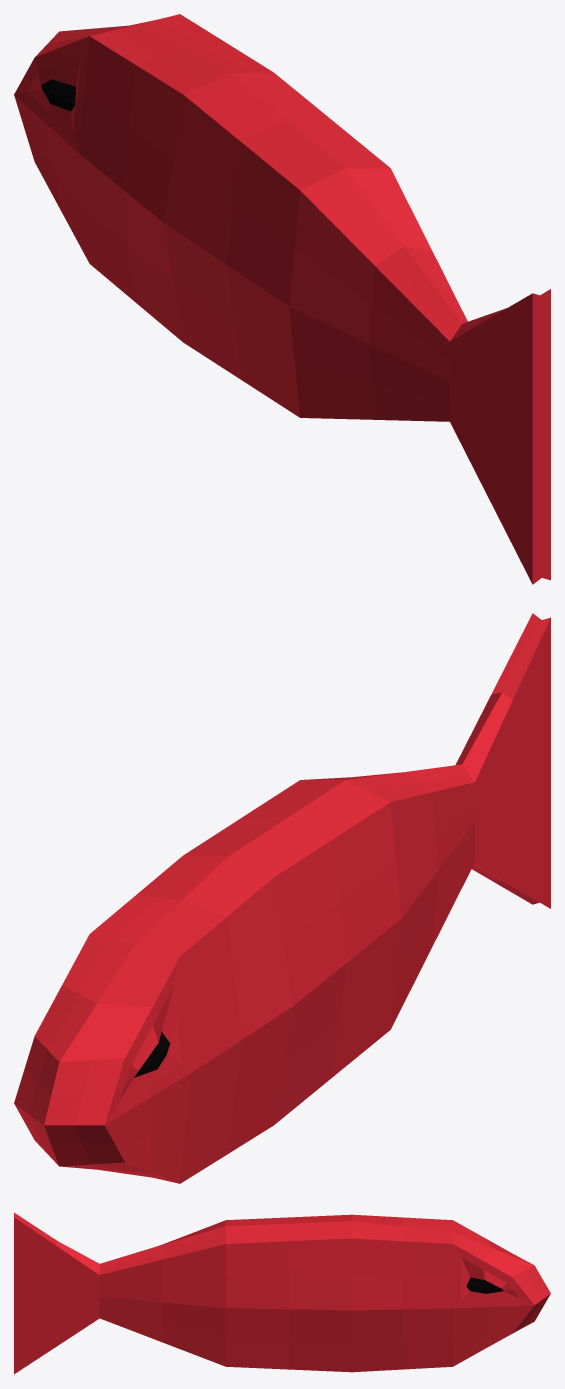
Rendered from commonFish.fbx.
The picture shows the model from 3 angles, top to bottom: view 1: azimuth 30°, elevation 25°; view 2: azimuth 150°, elevation 25°; view 3: azimuth 270°, elevation 25°; orthographic projection. The views are drawn at different scales.
Visible parts, largest first — view 1: commonFish; view 2: commonFish; view 3: commonFish.
Part boxes in pixels (x1,y1,x2,y2): commonFish: (14, 14, 550, 584); commonFish: (14, 613, 550, 1183); commonFish: (14, 1212, 550, 1374).
Bounding box in the file's own units: 173 × 374 × 1158.
